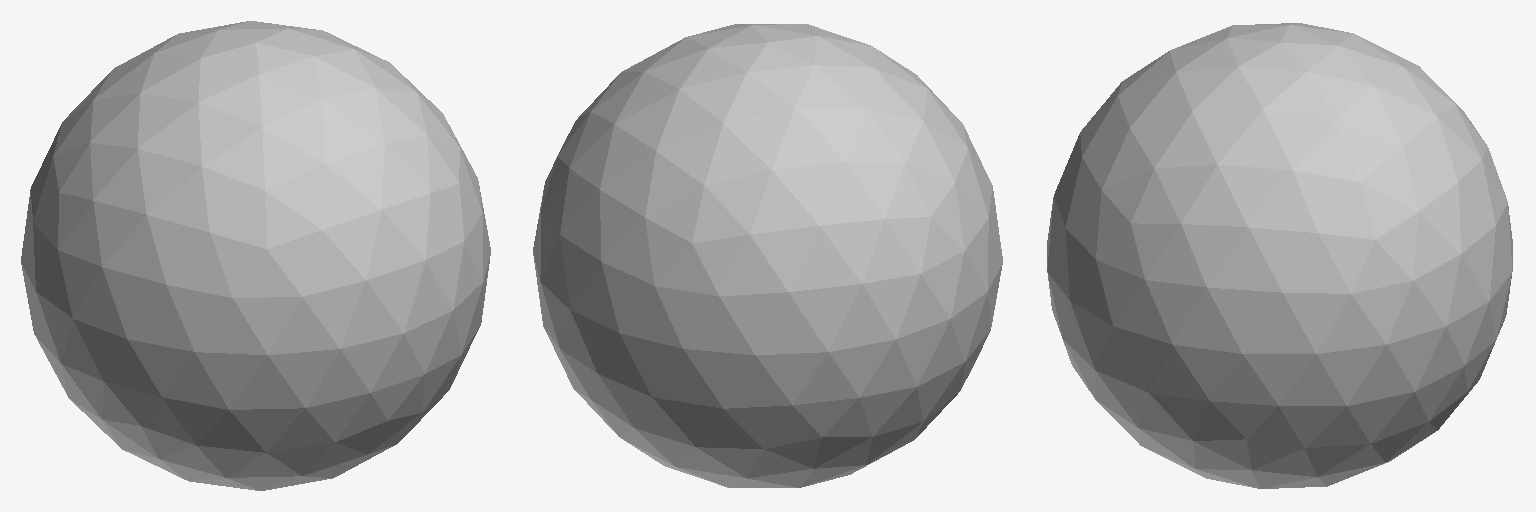
File: art_flame.obj
The picture shows the model from 3 angles: view 1: azimuth 30°, elevation 25°; view 2: azimuth 150°, elevation 25°; view 3: azimuth 270°, elevation 25°; orthographic projection.
Parts seen in each view (by area): view 1: art_flame_Icosphere; view 2: art_flame_Icosphere; view 3: art_flame_Icosphere.
Boxes of the visible parts, <box> form: art_flame_Icosphere: <box>21,21,490,490</box>; art_flame_Icosphere: <box>533,24,1002,487</box>; art_flame_Icosphere: <box>1047,23,1512,488</box>.
Bounding box in the file's own units: 4.03 × 4.08 × 4.03.